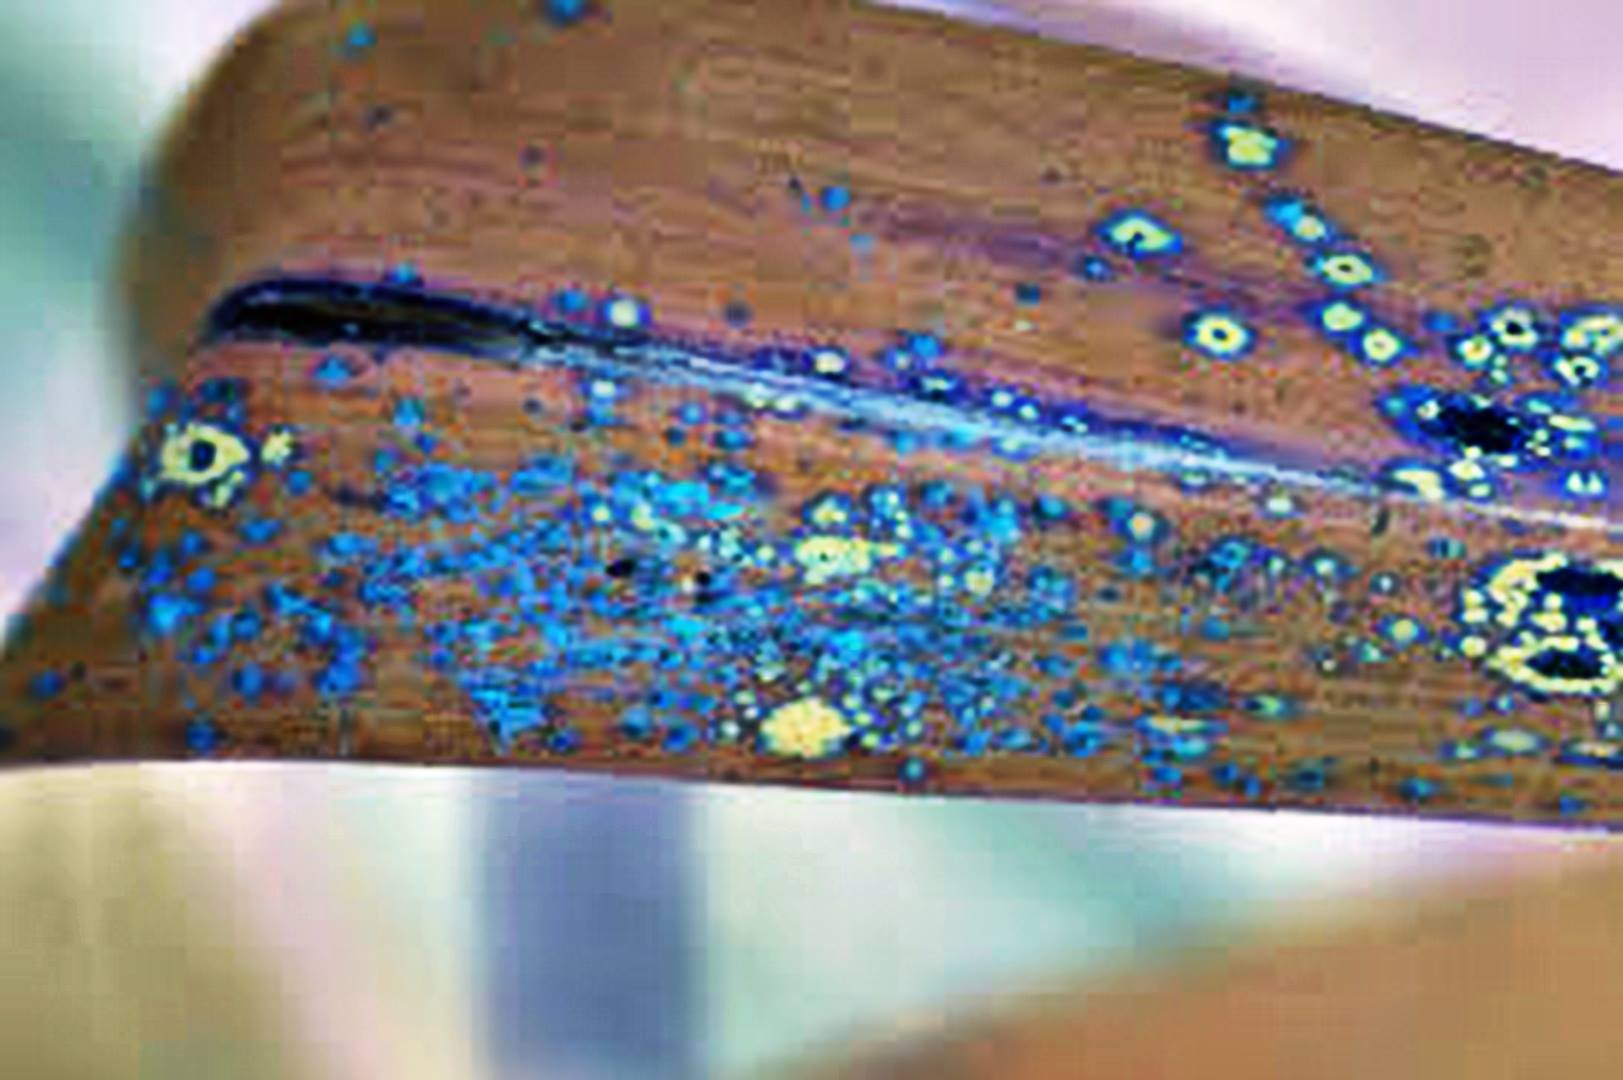Leaf Rust: (227, 67, 1537, 832)
